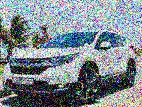car: (4, 29, 138, 102)
